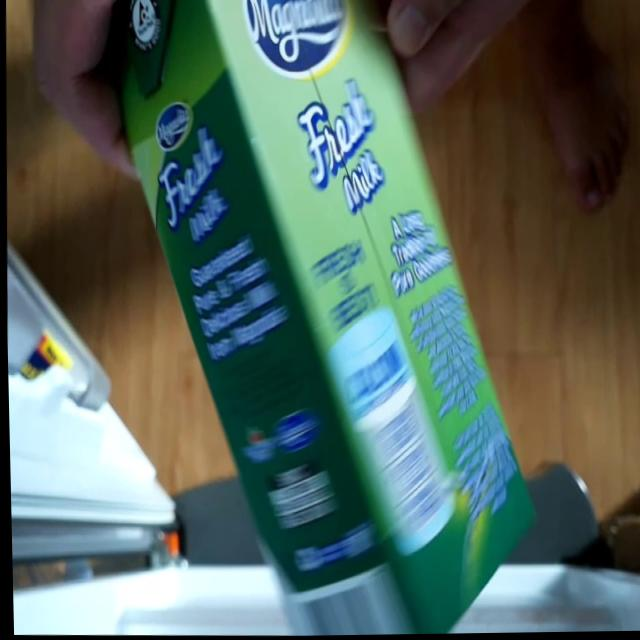milk: (114, 0, 553, 639)
